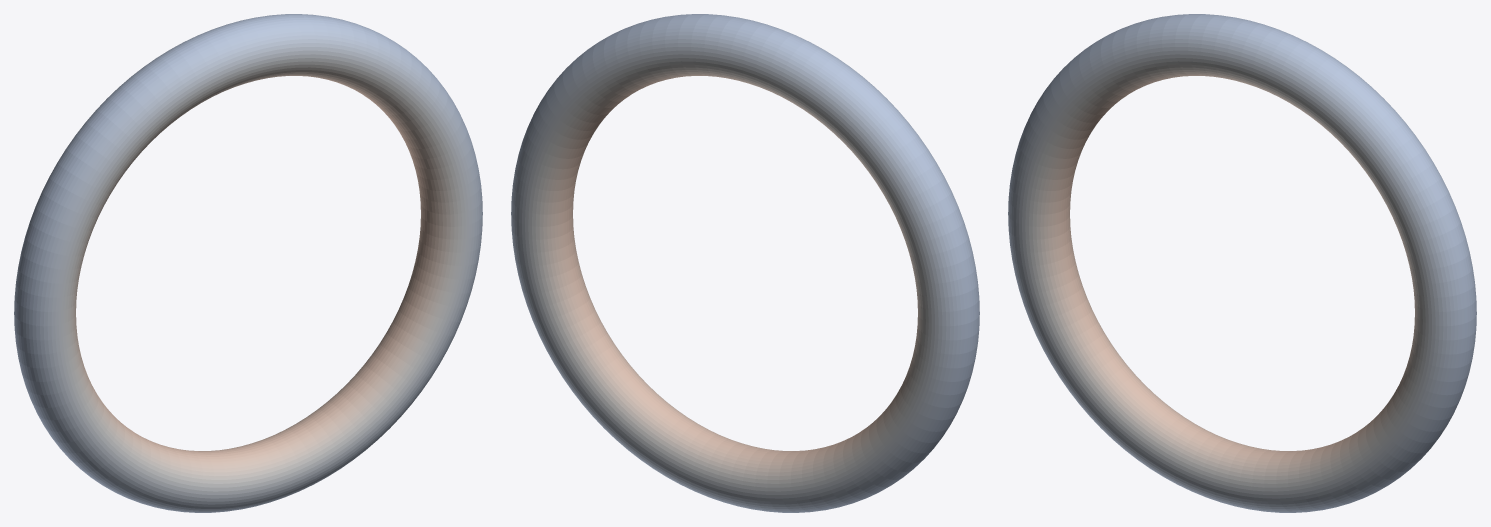
3 renders of one model, left to right at view 1: azimuth 30°, elevation 25°; view 2: azimuth 150°, elevation 25°; view 3: azimuth 330°, elevation 25°, orthographic.
Visible parts, largest first — view 1: world; view 2: world; view 3: world.
Part boxes in pixels (x1,y1,x2,y2): world: (14,14,482,512); world: (511,14,979,512); world: (1008,14,1476,512).
Bounding box in the file's own units: 33.2 × 33.2 × 3.86.
